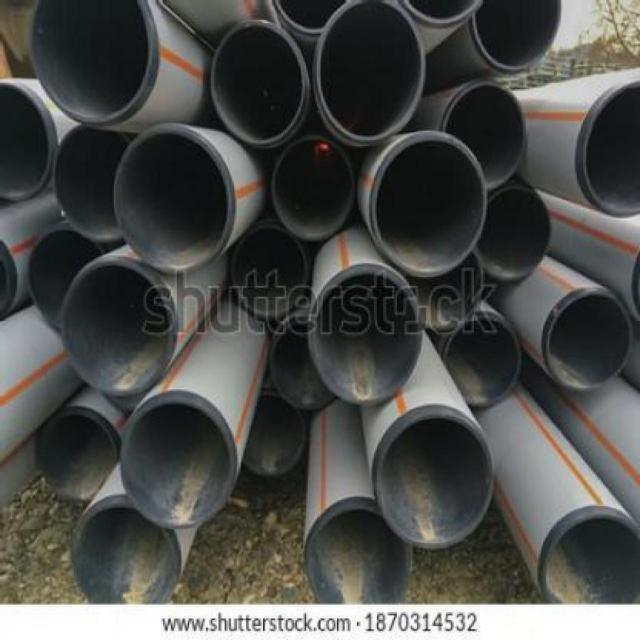pipe: (114, 127, 233, 273), (371, 132, 487, 277), (374, 412, 494, 549), (315, 1, 426, 141), (62, 260, 175, 397), (120, 398, 236, 528), (29, 0, 150, 121), (313, 272, 423, 403), (210, 19, 306, 147), (71, 503, 181, 605), (305, 505, 412, 605), (542, 510, 639, 605), (27, 229, 109, 340), (52, 125, 128, 241), (444, 84, 527, 190), (271, 137, 356, 239), (547, 292, 632, 391), (38, 407, 120, 504), (582, 82, 639, 218), (229, 388, 312, 481), (475, 190, 554, 281), (229, 228, 309, 316), (445, 316, 520, 406), (472, 1, 563, 71), (268, 319, 335, 412), (0, 81, 52, 198), (272, 0, 357, 33), (398, 0, 484, 21)
